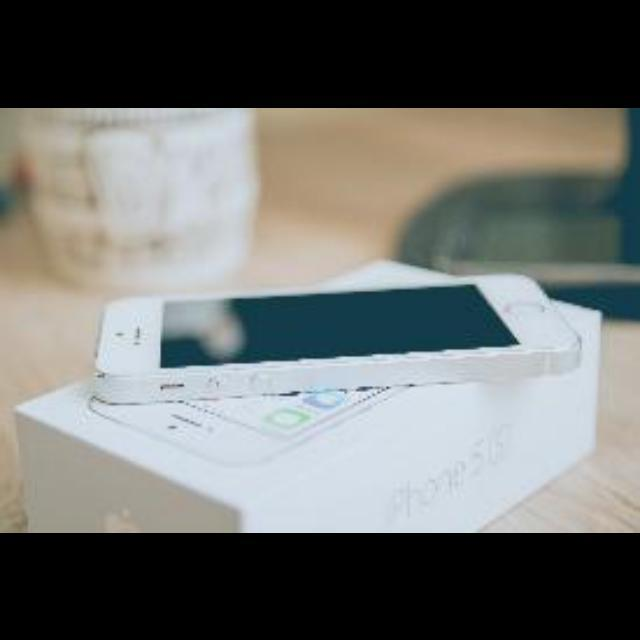PhoneUse: (93, 275, 581, 405)
